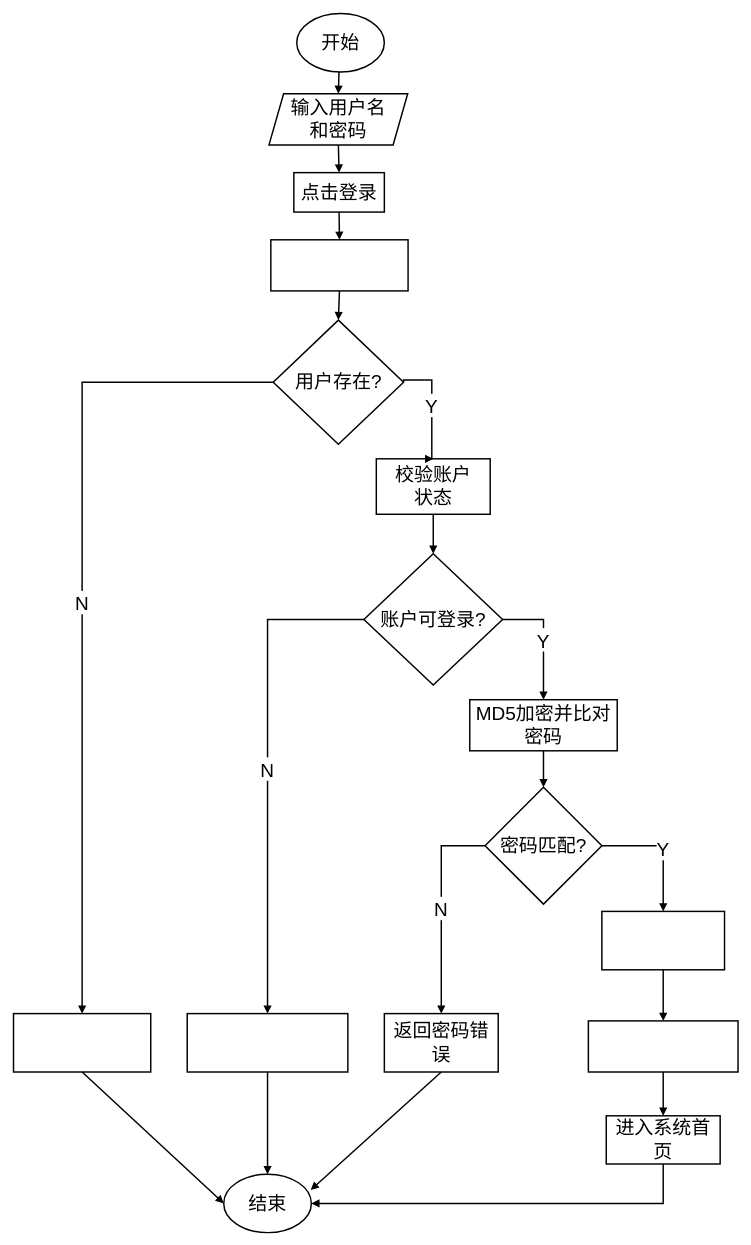
Image size: 751x1245. Some labels were removed from this diagram. The shapes that lost their labels are listed below. From the top down, each one's box as (x1, y1, x2, y2) in pixels, then its label:
(270, 239, 408, 291): 按用户名查询用户
(601, 910, 725, 970): 生成JWT Token
(12, 1013, 151, 1072): 返回用户名 不存在
(186, 1013, 348, 1072): 返回账户不可登录提示
(587, 1020, 738, 1072): 返回token+用户信息
